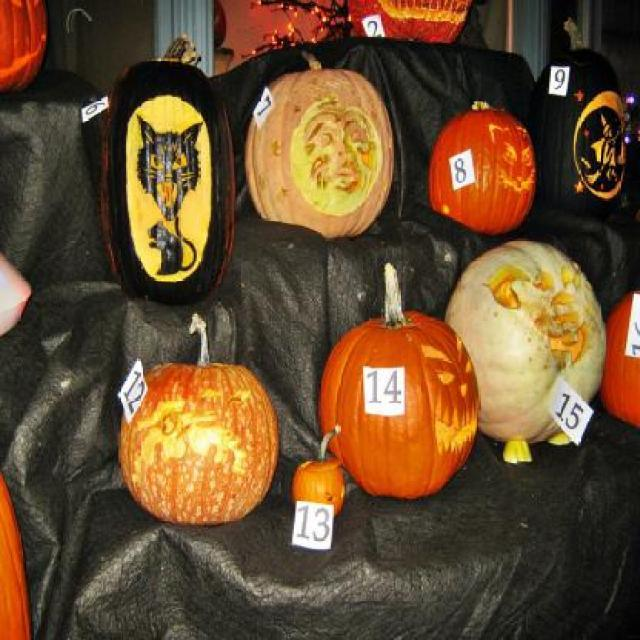Pumpkin: (438, 237, 614, 457), (103, 31, 235, 320), (314, 269, 476, 502), (120, 308, 278, 526), (250, 44, 394, 248), (534, 17, 636, 218), (423, 92, 539, 240), (290, 427, 348, 519), (608, 290, 640, 432)
